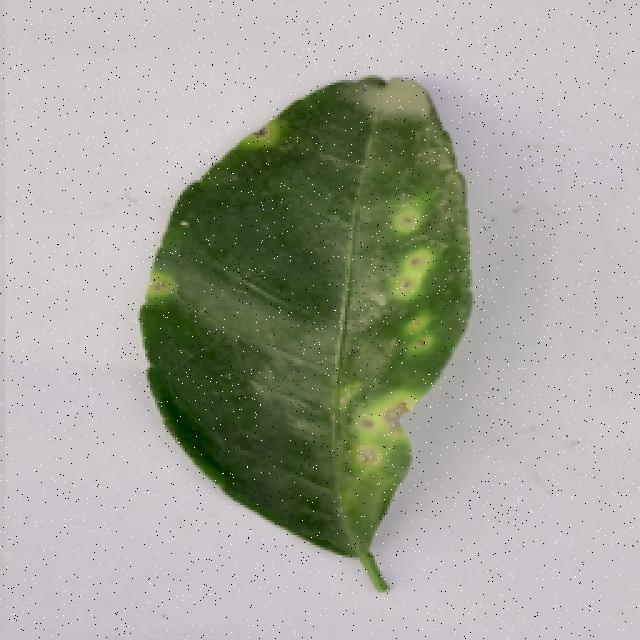canker: (142, 90, 474, 502)
